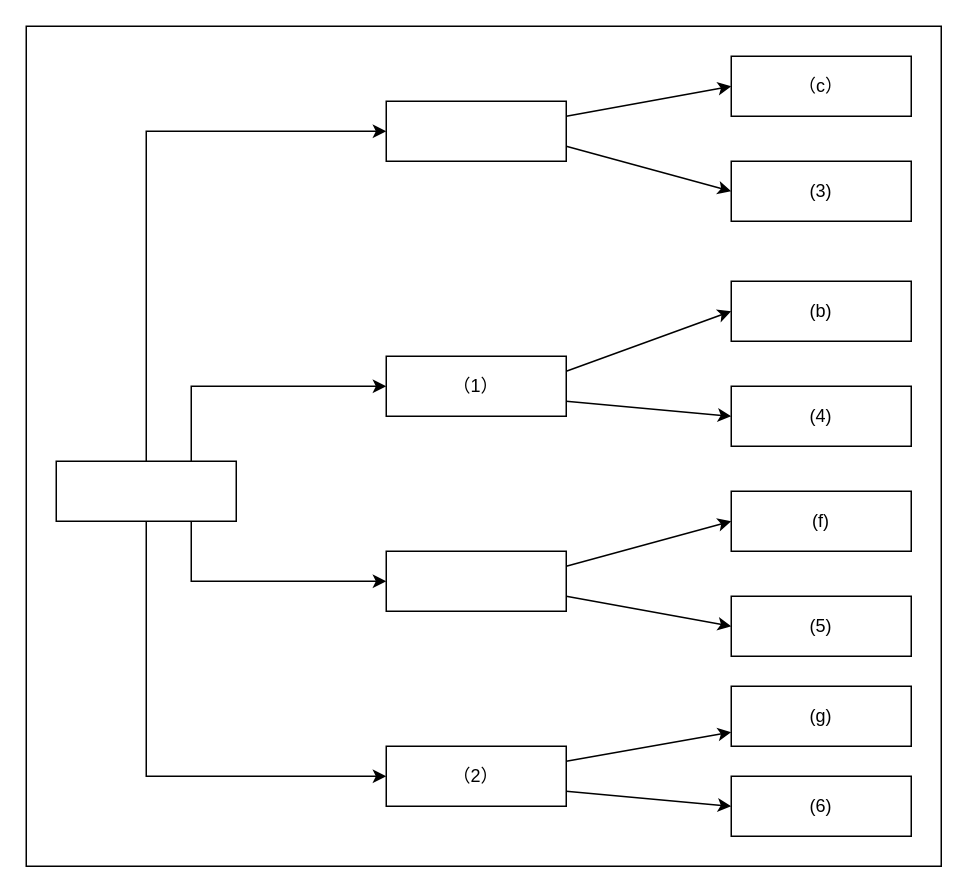
Image size: 968x893. Some labels were removed from this diagram. The shapes that lost their labels are listed below. From the top down, each one's centre as x and y in pixels, then its label:
At point 475,130: "可用性".
At point 145,490: "效用".
At point 475,580: "安全".
